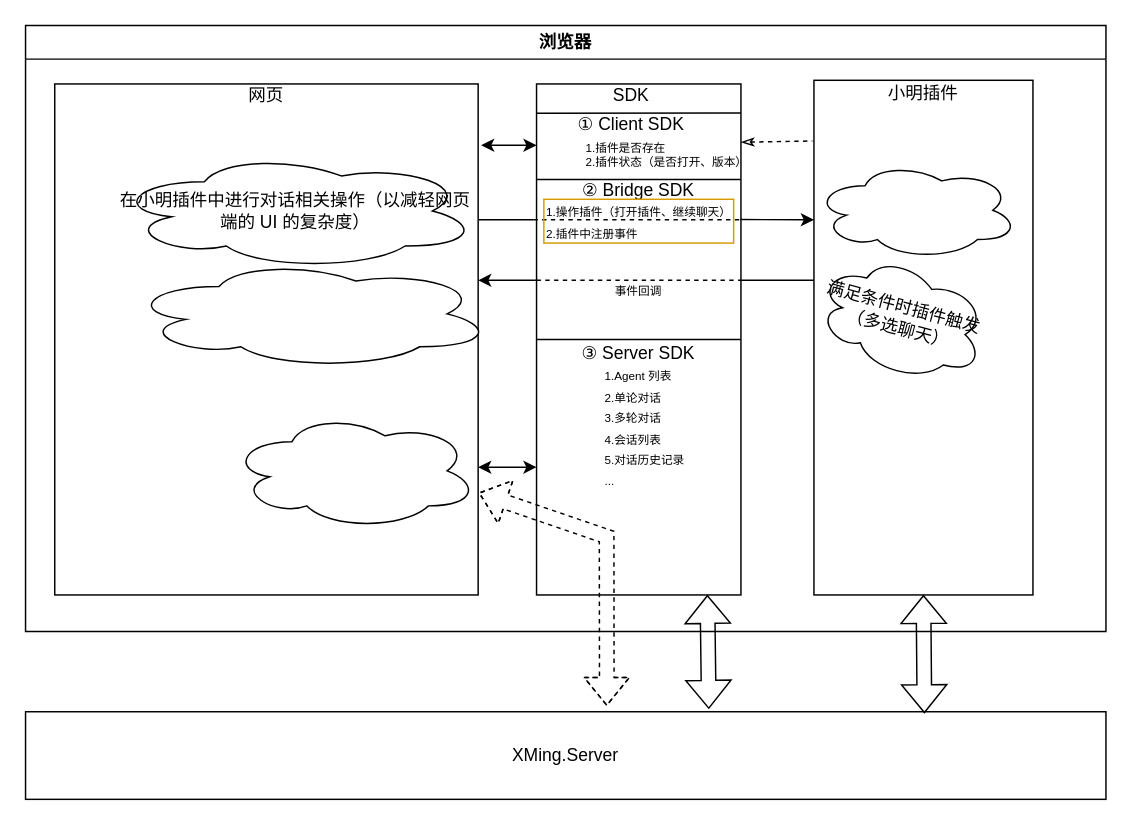
This 1132x825 diagram has some shape labels left out. The shapes that lost their labels are listed below. From the top down, each one's centre as x and y in pixels, then its label:
At [915,209]: "插件展示处理".
At [309,313]: "根据用户的操作和选择进行网页的渲染".
At [353,470]: "使用小明 Server的能力直接对网页进行渲染".
